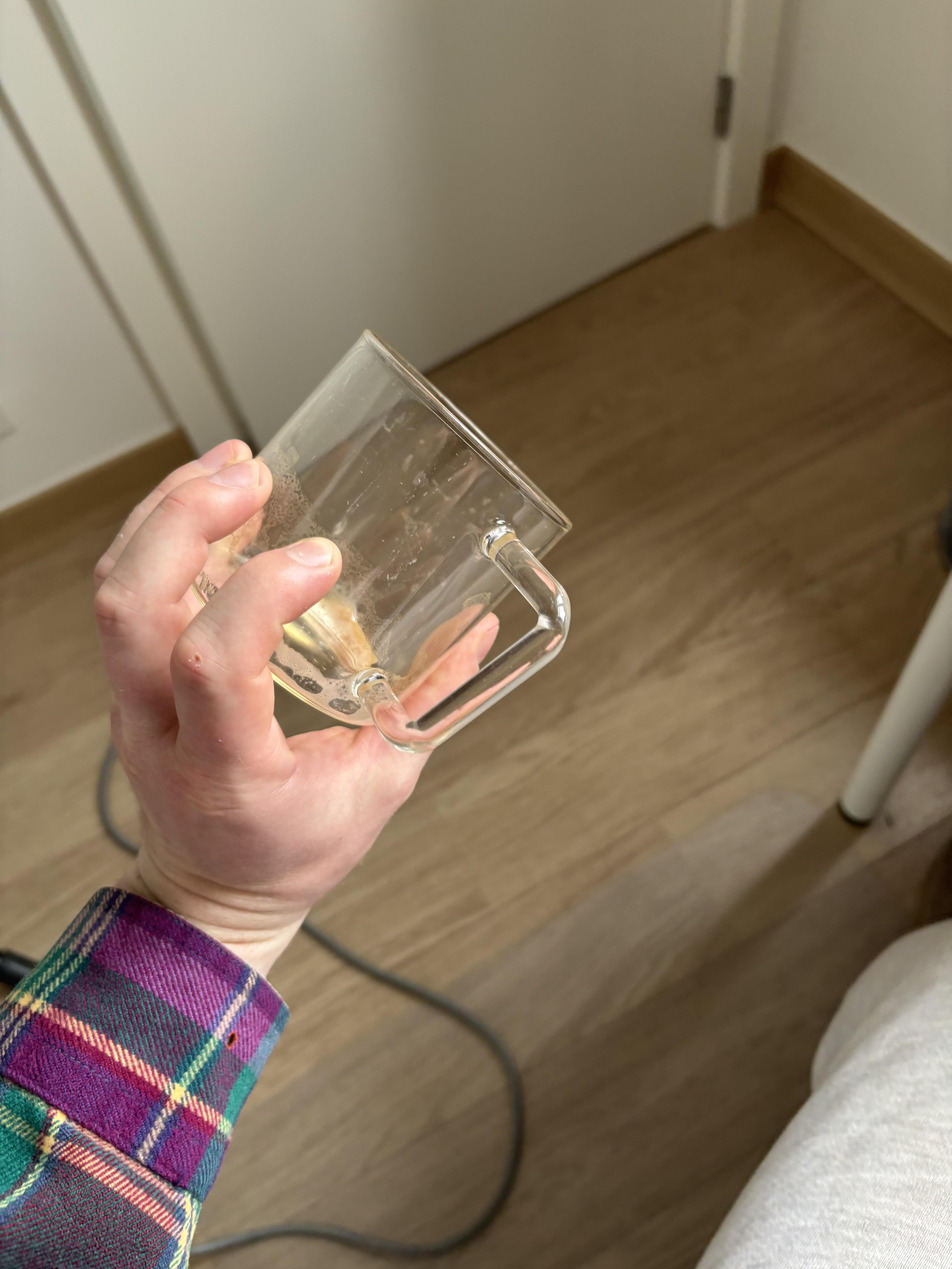Glass: (211, 326, 580, 750)
